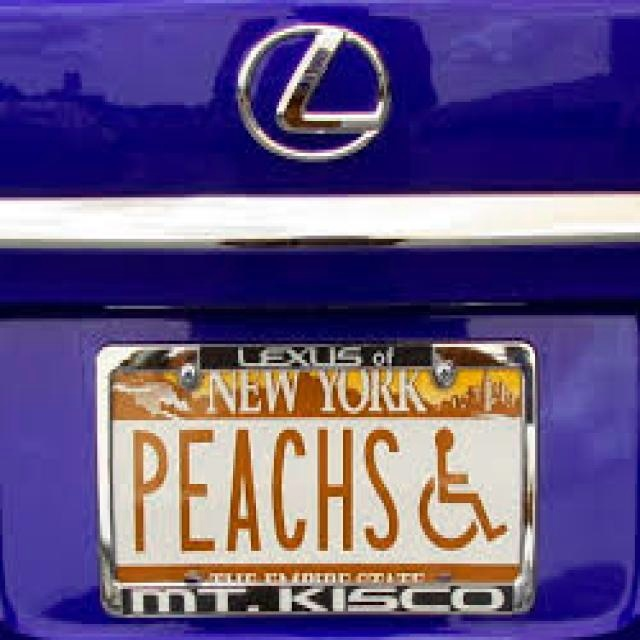ISA: (418, 425, 510, 555)
